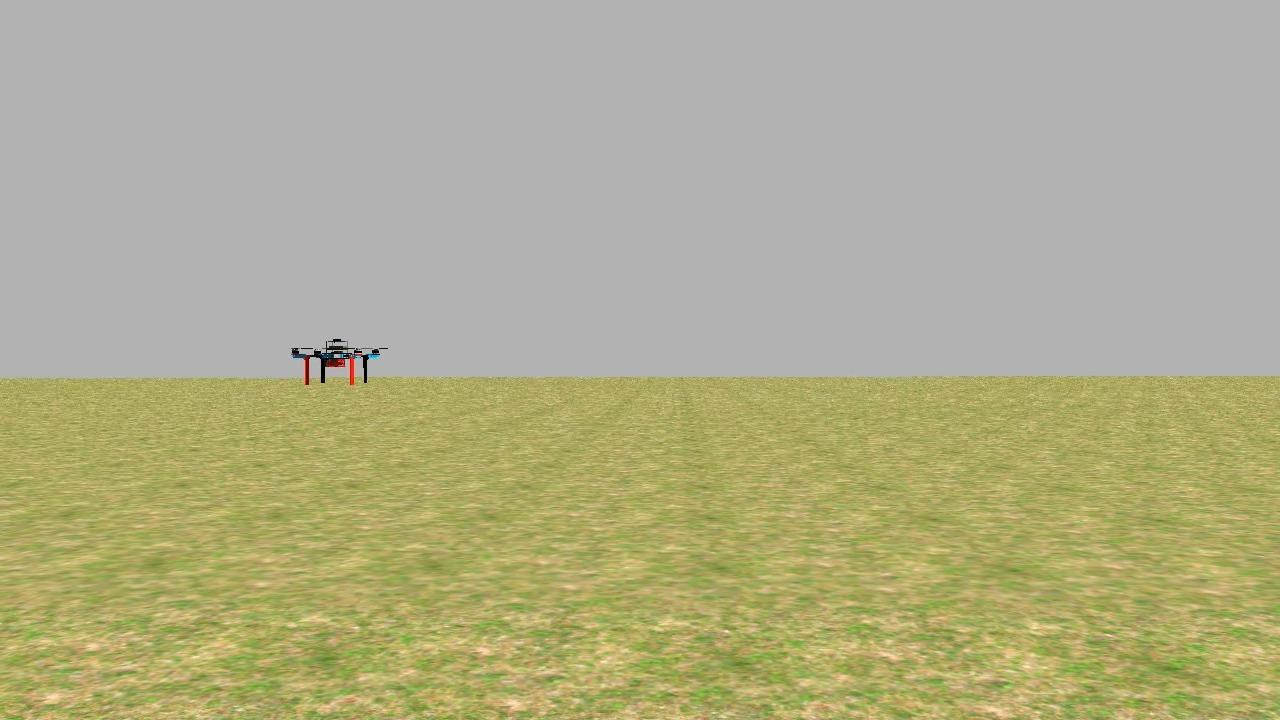UAV: (289, 332, 381, 394)
